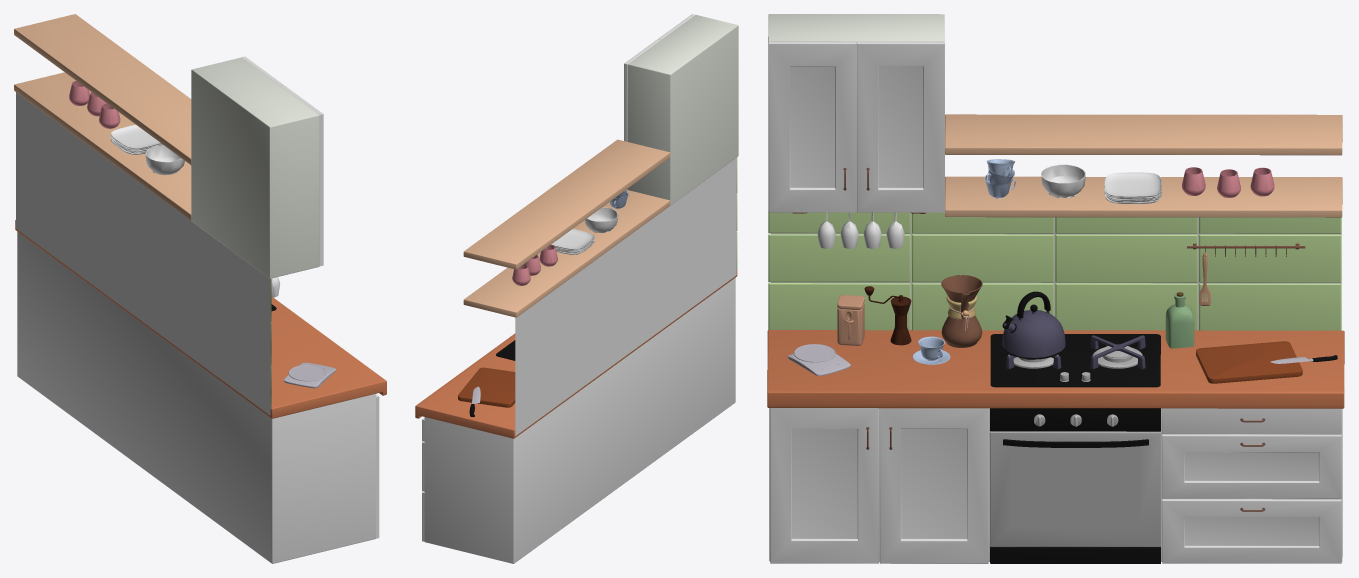
Rendered from kitchen1misc.fbx.
3 views of the same model, side by side, from view 1: azimuth 30°, elevation 25°; view 2: azimuth 150°, elevation 25°; view 3: azimuth 270°, elevation 25° (orthographic). The views are drawn at different scales.
Visible parts, largest first — view 1: chemex; view 2: chemex; view 3: chemex.
Part boxes in pixels (x1=…): chemex: x1=14, y1=14, x2=386, y2=563; chemex: x1=415, y1=14, x2=738, y2=563; chemex: x1=767, y1=14, x2=1344, y2=563.
Bounding box in the file's own units: 253 × 896 × 957.
